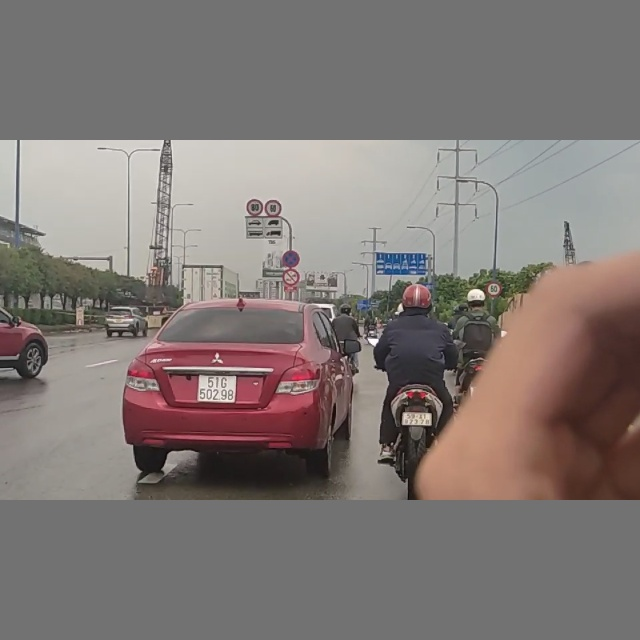P.130: (281, 250, 300, 267)
